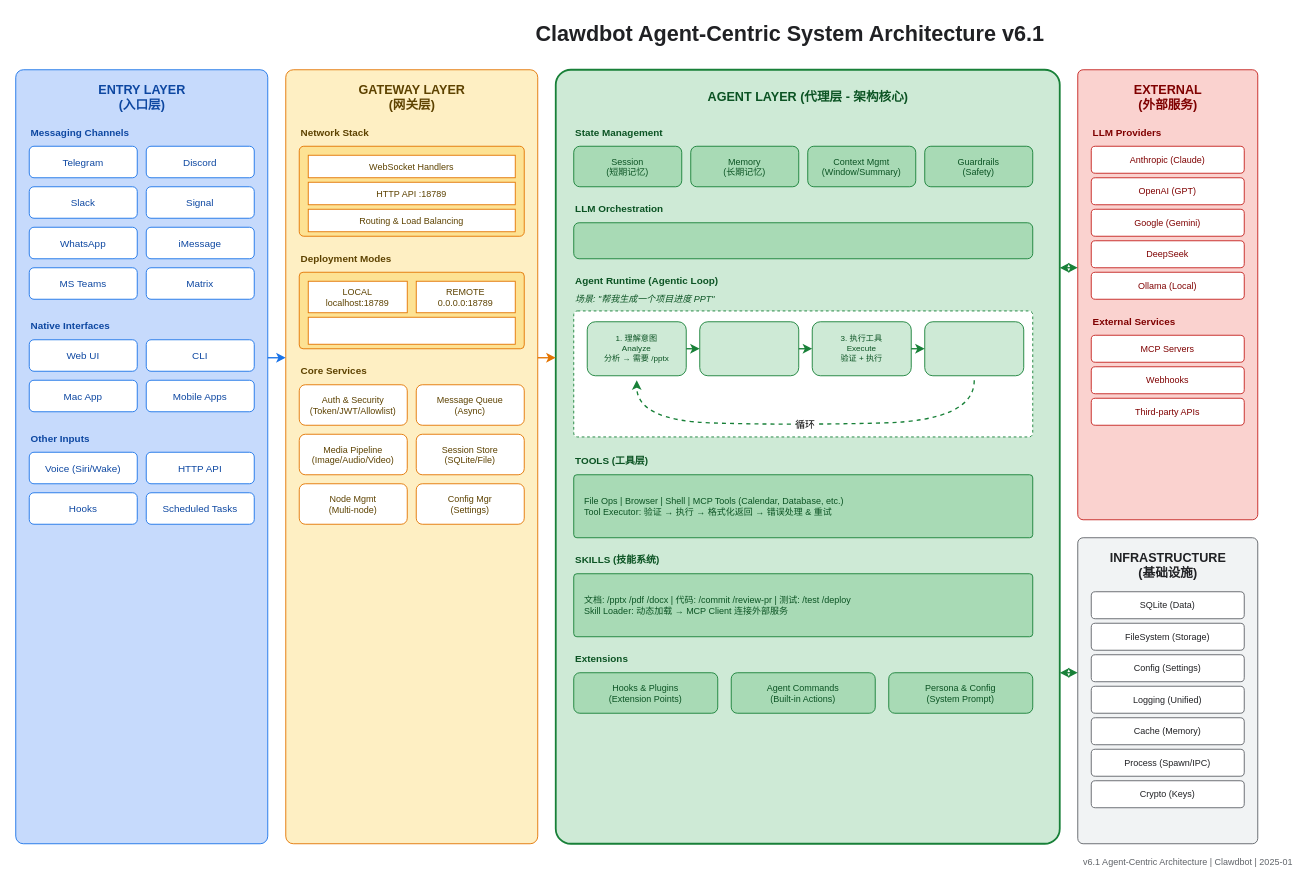
Some shapes in this 1310 by 886 pixel diagram are drawn without their labels. Here are the shapes that lost their labels. From the top down, the box of each, then its label:
(573, 222, 1033, 259): Provider Router | Streaming | Model Selection | Fallback
(307, 316, 515, 344): Tailscale (serve | funnel)
(699, 321, 799, 376): 2. 调用工具 Request { skill: "pptx" }
(924, 321, 1024, 376): 4. 返回/继续 Return/Loop 循环或回复
